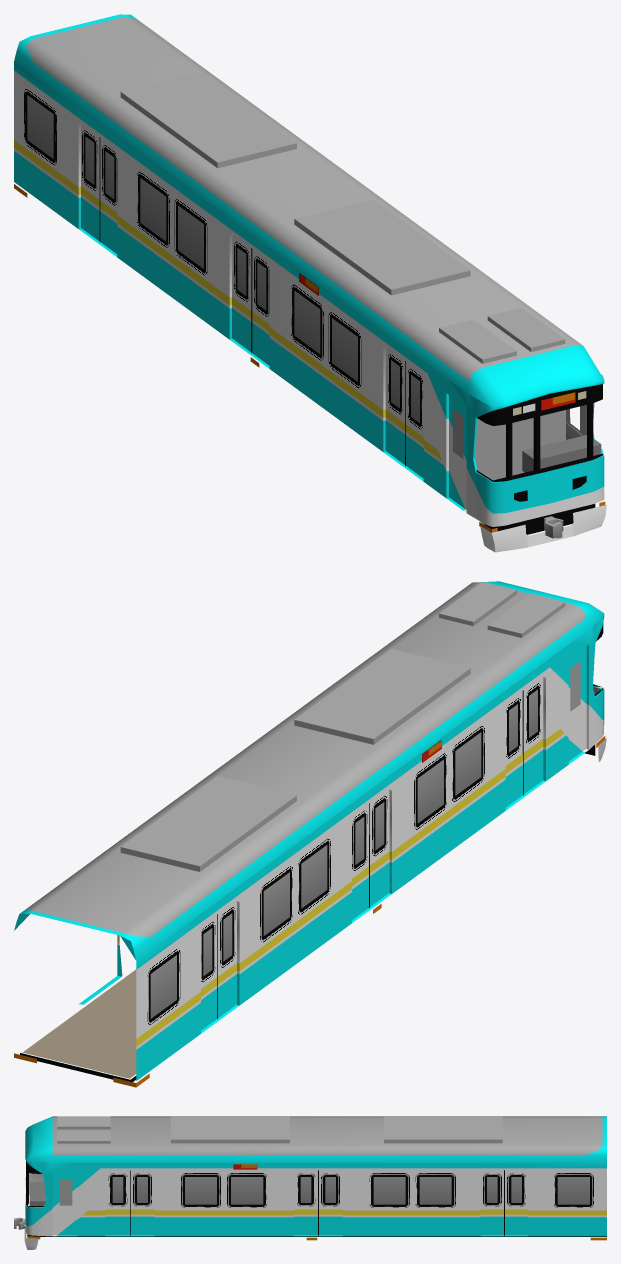
Rendered from CHAR_SEL_800.glb.
The picture shows the model from 3 angles, top to bottom: view 1: azimuth 30°, elevation 25°; view 2: azimuth 150°, elevation 25°; view 3: azimuth 270°, elevation 25°; orthographic projection. The views are drawn at different scales.
Parts seen in each view (by area): view 1: FRAME_ROOT; view 2: FRAME_ROOT; view 3: FRAME_ROOT.
Part boxes in pixels (x1,y1,x2,y2): FRAME_ROOT: [14, 14, 606, 552]; FRAME_ROOT: [14, 581, 606, 1087]; FRAME_ROOT: [14, 1116, 606, 1249].
Size of the model in its own units: 5.39 by 7.27 by 36.63.
11 materials, 10 textured.
